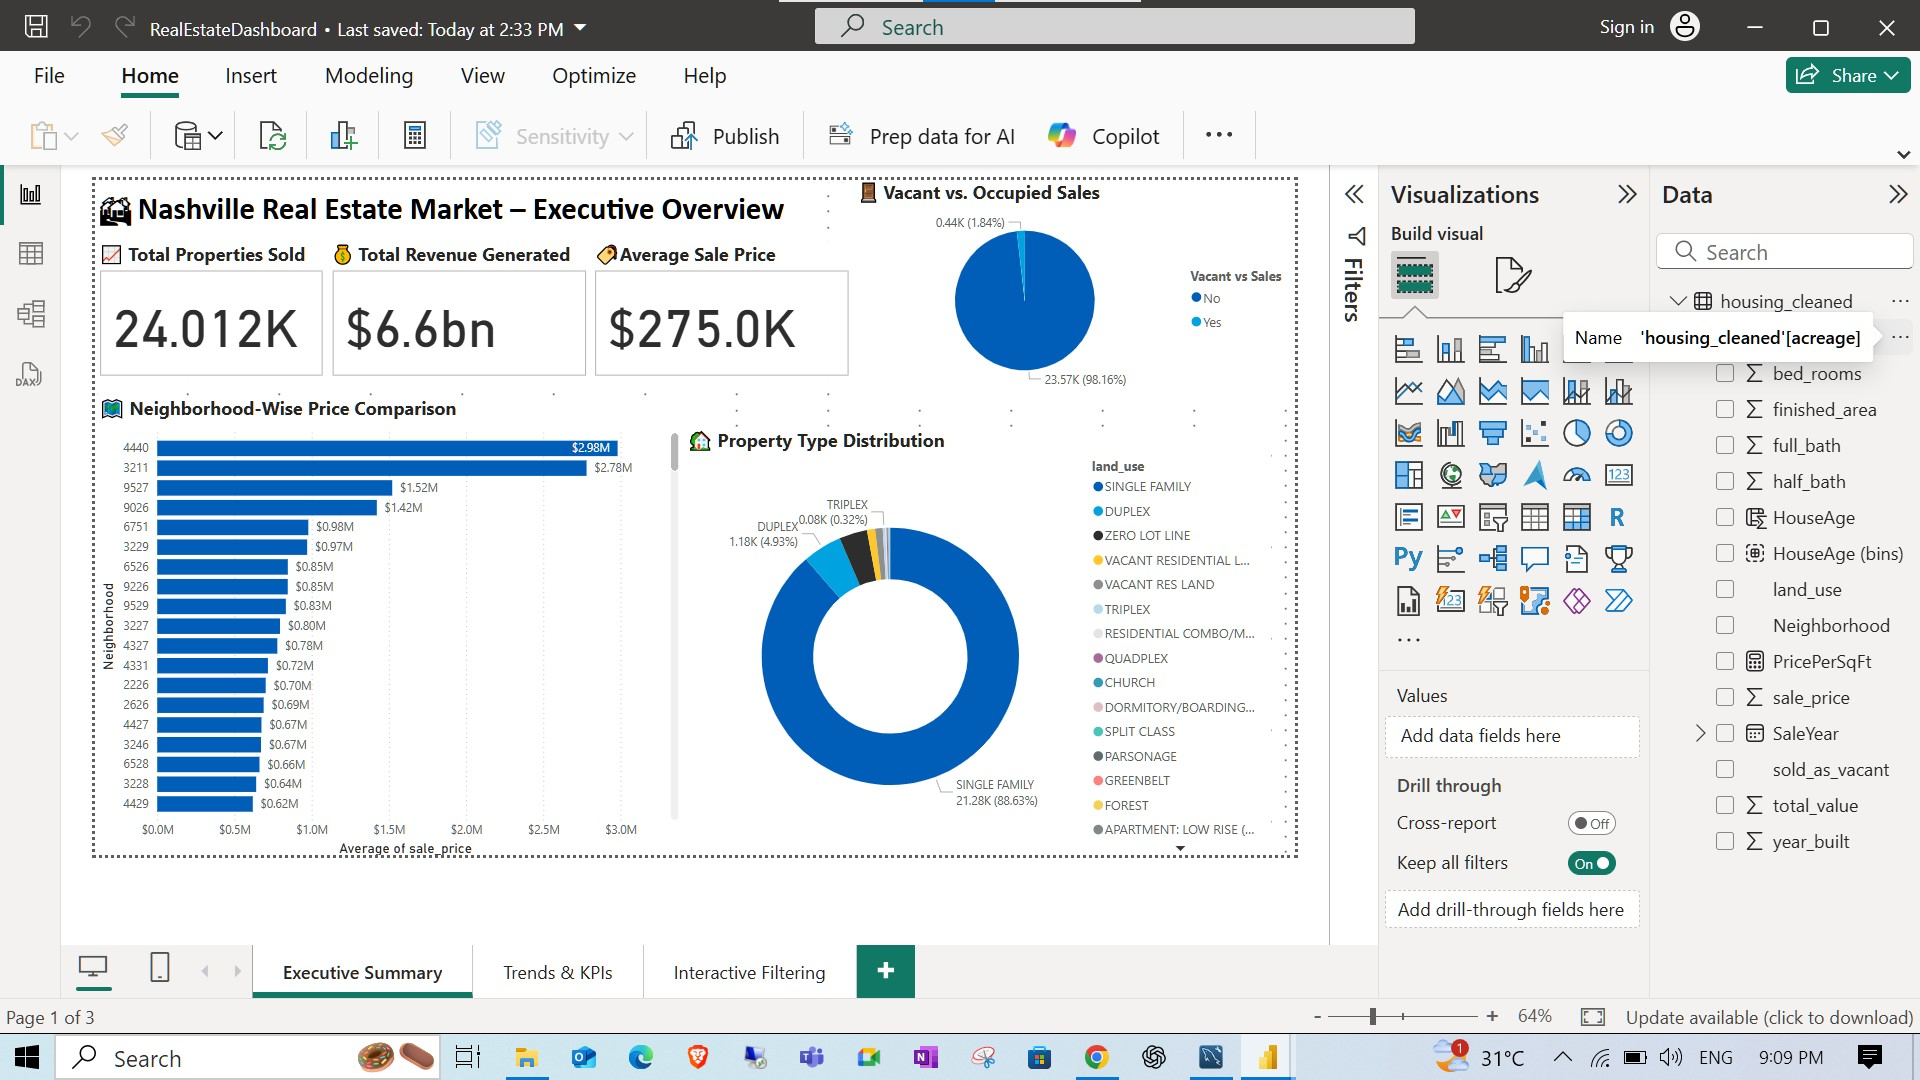

Layout of this report page (visuals, bound fields, positions):
{"tool":"powerbi","page":{"name":" Executive Summary","canvas":[1280,720],"ordinal":0},"visuals":[{"type":"cardVisual","title":"📈\tTotal Properties Sold","fields":{"Data":["CountNonNull(real_estate_db housing_cleaned.sale_price)"]},"box":[0,64,240,144],"z":0},{"type":"cardVisual","title":"💰\tTotal Revenue Generated","fields":{"Data":["Sum(real_estate_db housing_cleaned.sale_price)"]},"box":[240,64,272,144],"z":1000},{"type":"textbox","box":[0,0,736,64],"z":2000},{"type":"cardVisual","title":"🏷️Average Sale Price","fields":{"Data":["Avg(real_estate_db housing_cleaned.sale_price)"]},"box":[512,64,272,144],"z":3000},{"type":"barChart","title":"🗺️\tNeighborhood-Wise Price Comparison","fields":{"Y":["Avg(real_estate_db housing_cleaned.sale_price)"],"Category":["real_estate_db housing_cleaned.Neighborhood"]},"box":[0,224,608,480],"z":4000},{"type":"donutChart","title":"🏡\tProperty Type Distribution","fields":{"Category":["real_estate_db housing_cleaned.land_use"],"Y":["CountNonNull(real_estate_db housing_cleaned.land_use)"],"Series":["real_estate_db housing_cleaned.land_use"]},"box":[608,256,608,448],"z":5000},{"type":"pieChart","title":"🚪\tVacant vs. Occupied Sales","fields":{"Category":["real_estate_db housing_cleaned.sold_as_vacant"],"Y":["CountNonNull(real_estate_db housing_cleaned.sold_as_vacant)"],"Series":["real_estate_db housing_cleaned.sold_as_vacant"]},"box":[784,0,464,224],"z":6000}]}

Visuals, with their boxes on the page's 1280x720 design canvas (x1, y1, x2, y2). These are canvas units, not pixel positions in the 1920x1080 screenshot, which may show the page scaled, cropped or inside an application window:
"📈	Total Properties Sold" cardVisual: (x1=0, y1=64, x2=240, y2=208)
"💰	Total Revenue Generated" cardVisual: (x1=240, y1=64, x2=512, y2=208)
textbox: (x1=0, y1=0, x2=736, y2=64)
"🏷️Average Sale Price" cardVisual: (x1=512, y1=64, x2=784, y2=208)
"🗺️	Neighborhood-Wise Price Comparison" barChart: (x1=0, y1=224, x2=608, y2=704)
"🏡	Property Type Distribution" donutChart: (x1=608, y1=256, x2=1216, y2=704)
"🚪	Vacant vs. Occupied Sales" pieChart: (x1=784, y1=0, x2=1248, y2=224)
